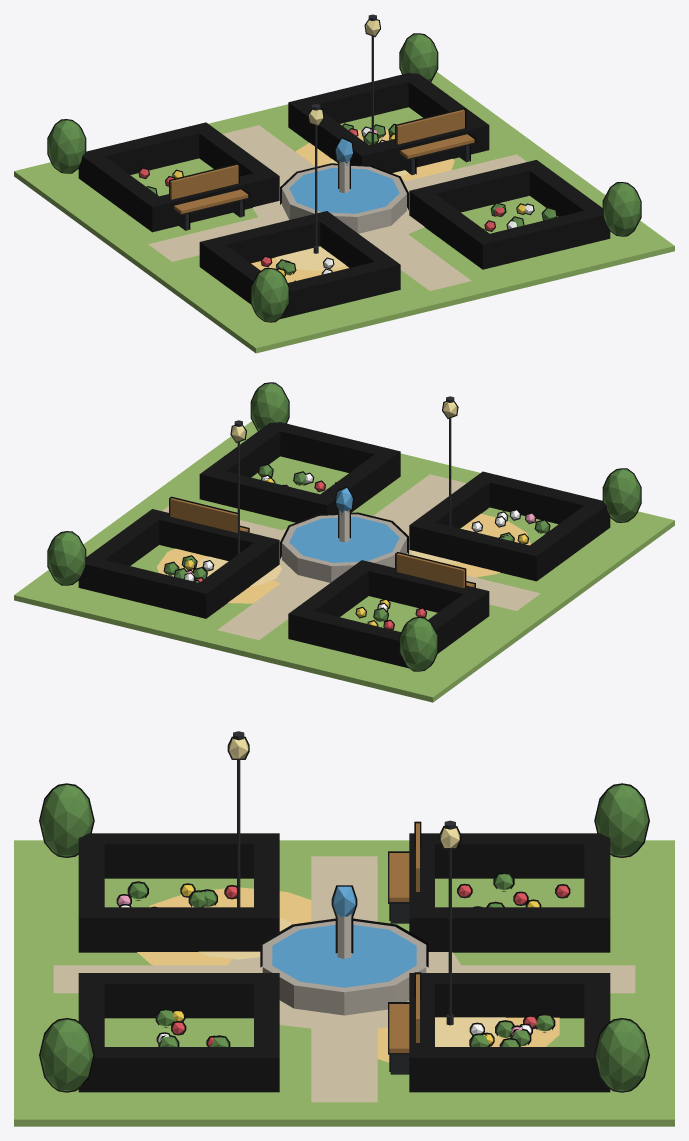
Rendered from Park_cim_duzenli.fbx.
3 renders of one model, top to bottom at view 1: azimuth 30°, elevation 25°; view 2: azimuth 150°, elevation 25°; view 3: azimuth 270°, elevation 25°, orthographic. The views are drawn at different scales.
Visible parts, largest first — view 1: Park_cim_duzenli; view 2: Park_cim_duzenli; view 3: Park_cim_duzenli.
Boxes of the visible parts, left/top/right/bottom form: Park_cim_duzenli: left=14, top=14, right=674, bottom=353; Park_cim_duzenli: left=14, top=382, right=674, bottom=702; Park_cim_duzenli: left=14, top=731, right=674, bottom=1126.
Bounding box in the file's own units: 10 × 3.48 × 10.
